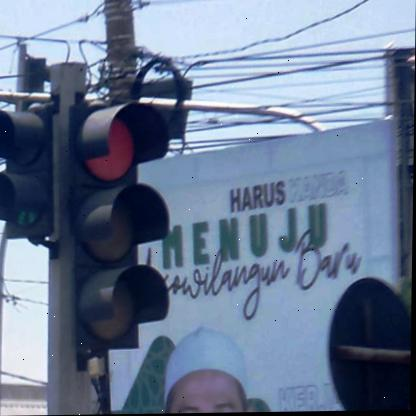Traffic Light -Red-: (66, 101, 173, 351)
